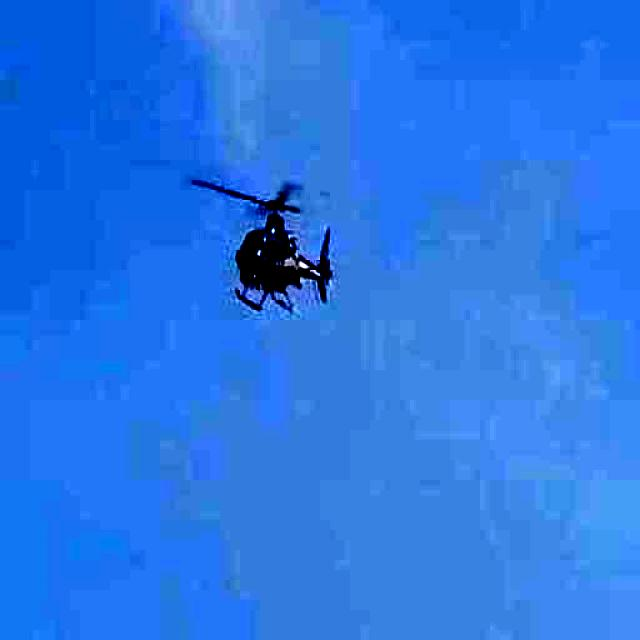drone: (144, 149, 380, 345)
